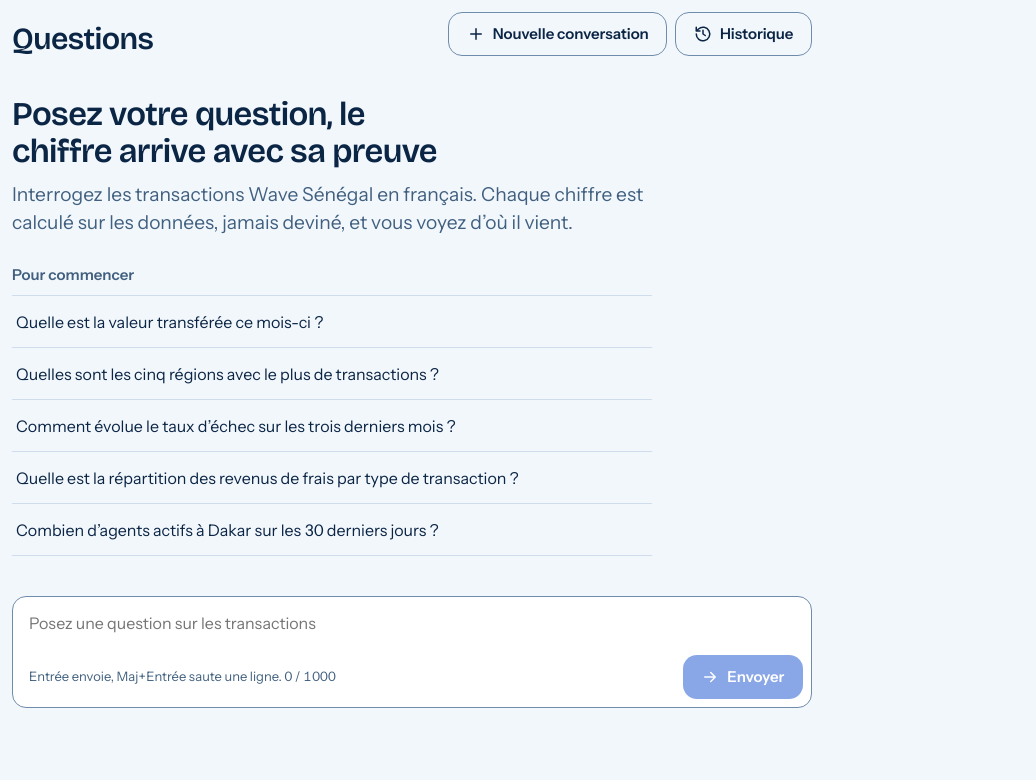
Test: Page Questions › un message d’erreur de l’agent (kind error) propose Réessayer
Type "Valeur ?" into the text box named "Votre question".
click(412, 623); type("Valeur ?")  # box [13,597,811,649]
Then press Enter
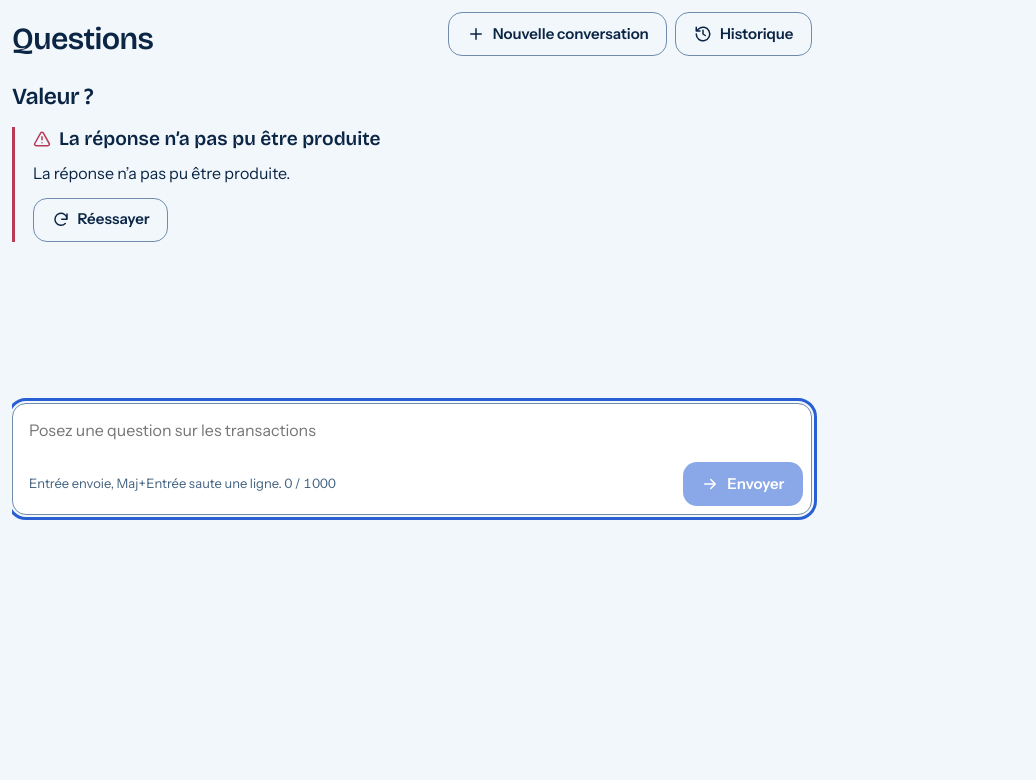
Now the button "Réessayer" is shown, box [33,198,168,242]
